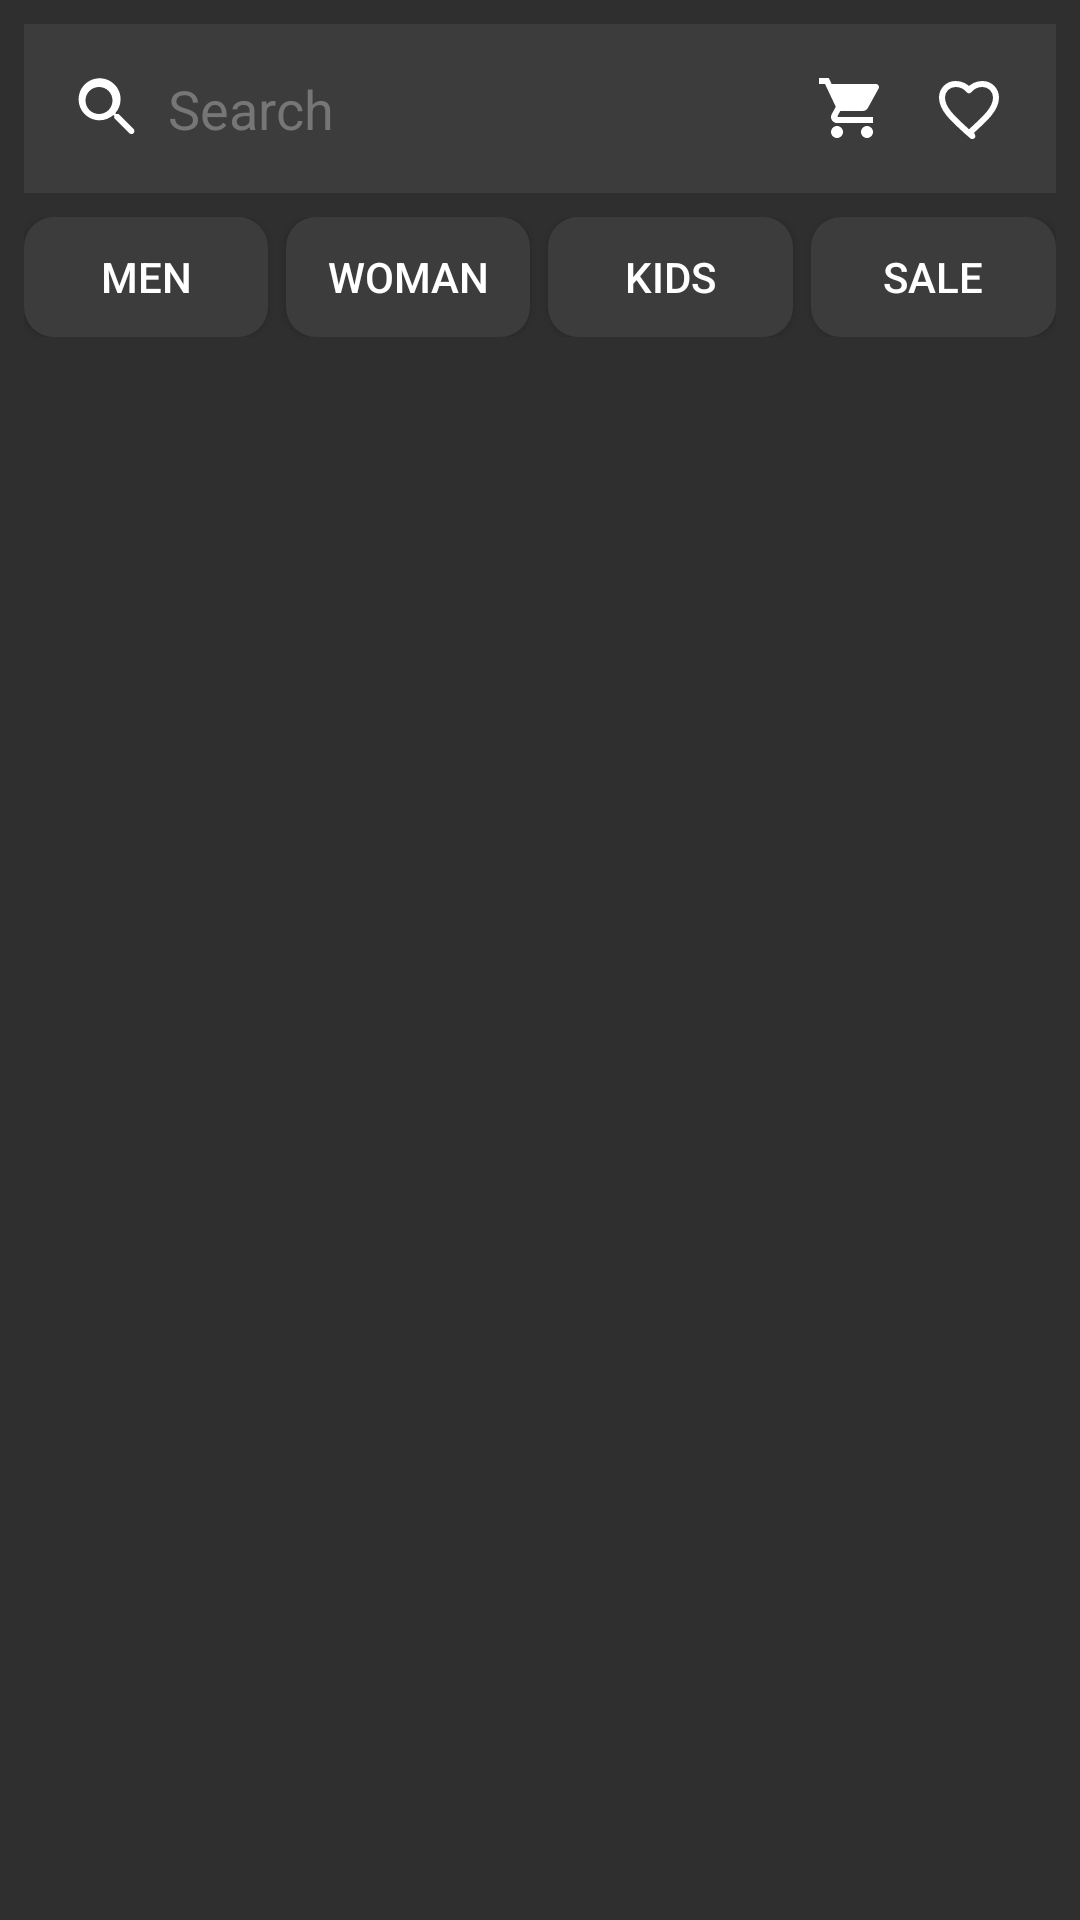

Screen size 1080 × 1920. Icon name, then its center in pixels as (x=x, y=y):
Cart: (x=849, y=108)
Favorites: (x=969, y=110)
